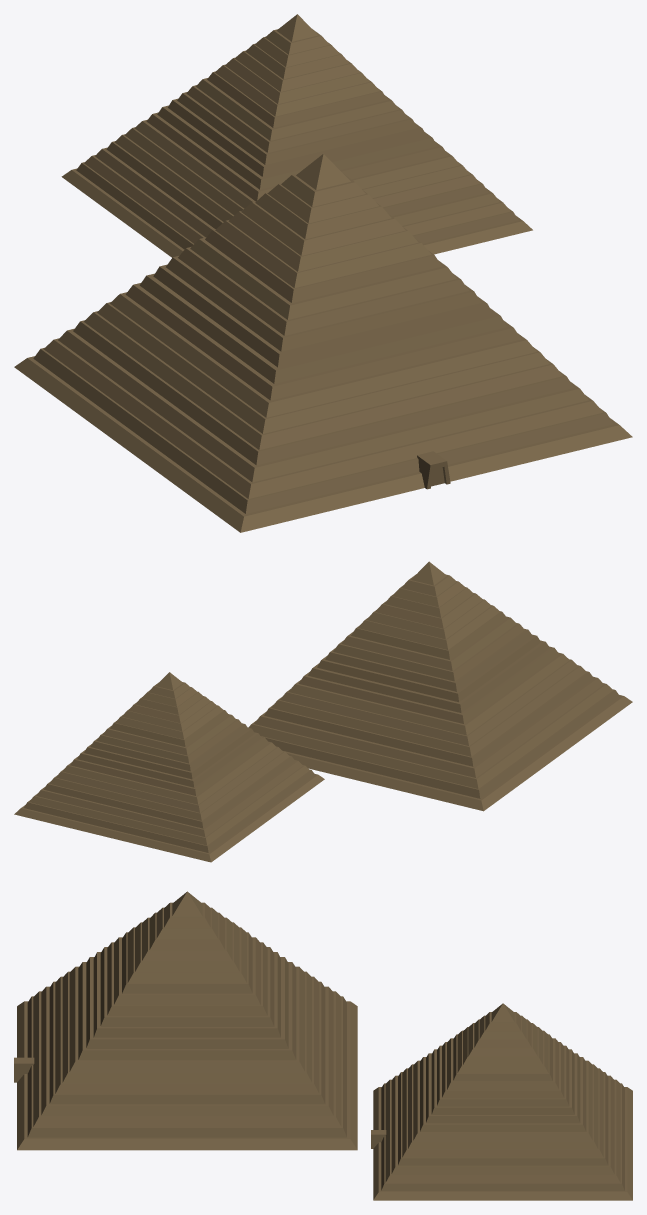
The model's file is Giza_MDL.fbx.
3 views of the same model, one above another, from view 1: azimuth 30°, elevation 25°; view 2: azimuth 150°, elevation 25°; view 3: azimuth 270°, elevation 25° (orthographic). The views are drawn at different scales.
Visible parts, largest first — view 1: Giza1, Giza2; view 2: Giza1, Giza2; view 3: Giza1, Giza2.
Boxes of the visible parts, box(x1,y1,x2,y2) form: Giza1: box(14, 154, 632, 532); Giza2: box(61, 14, 532, 257); Giza1: box(248, 561, 632, 811); Giza2: box(14, 672, 324, 862); Giza1: box(14, 891, 357, 1150); Giza2: box(371, 1003, 632, 1200).
Bounding box in the file's own units: 68.9 × 30.89 × 92.74.
